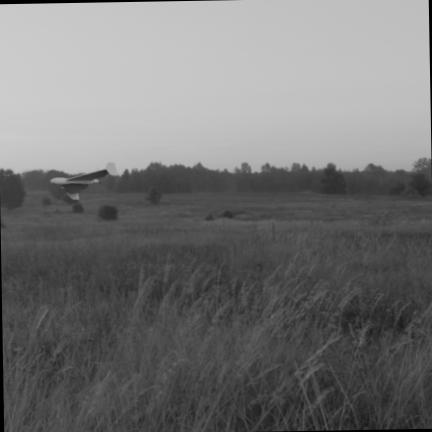Shahed: (50, 162, 117, 199)
